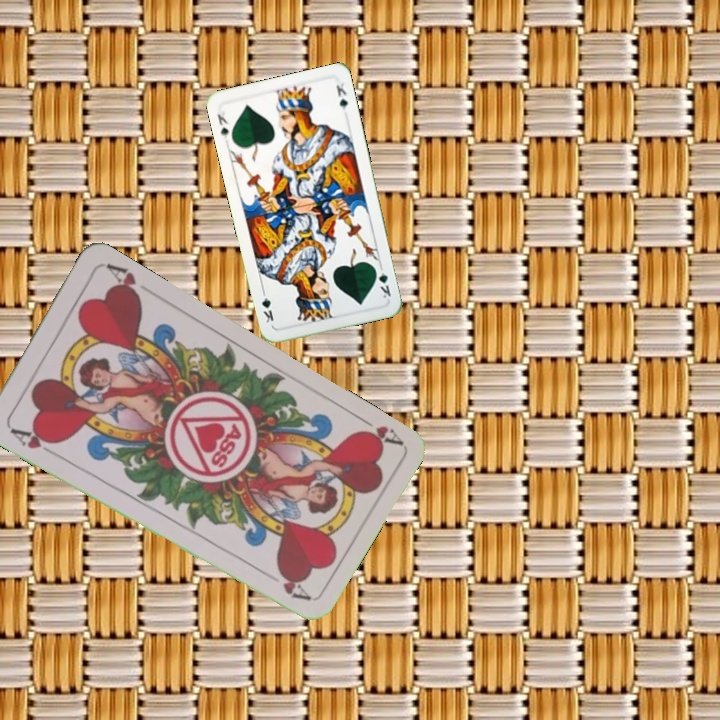GK: (371, 263, 394, 301), (213, 108, 231, 141)
HA: (350, 410, 404, 450), (4, 421, 61, 458)
